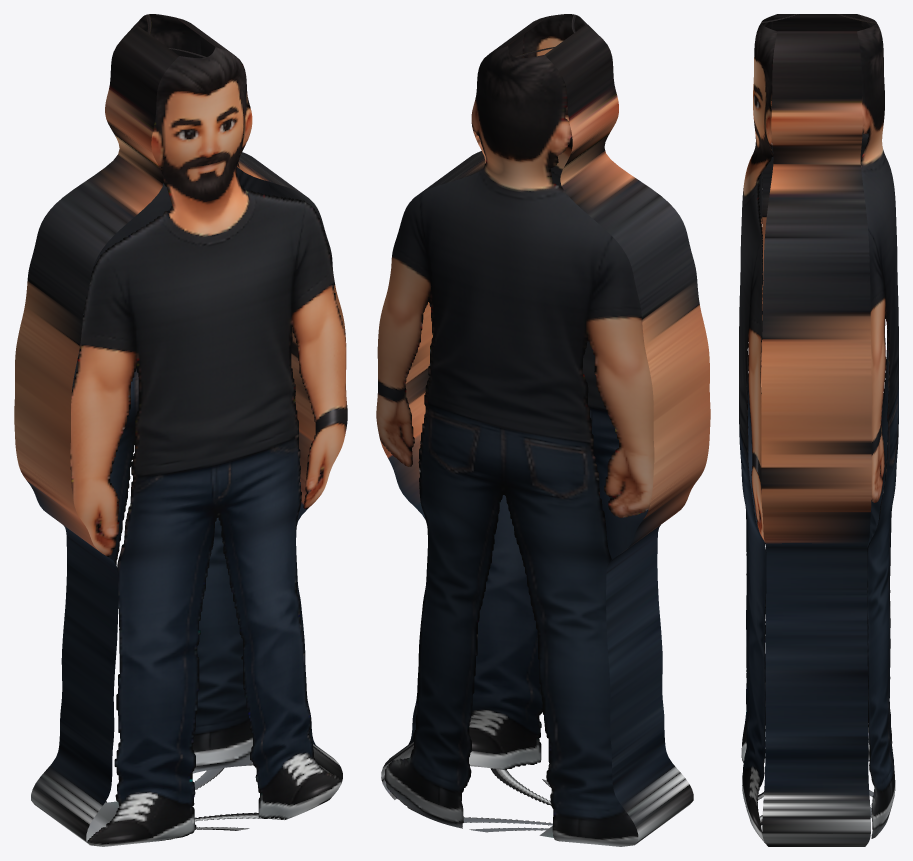
File: png 1 .glb
3 views of the same model, side by side, from view 1: azimuth 30°, elevation 25°; view 2: azimuth 150°, elevation 25°; view 3: azimuth 270°, elevation 25° (orthographic).
Parts seen in each view (by area): view 1: Personnage V4 Neural; view 2: Personnage V4 Neural; view 3: Personnage V4 Neural.
Boxes of the visible parts, x1,y1,x2,y2 form: Personnage V4 Neural: [14, 14, 347, 846]; Personnage V4 Neural: [376, 14, 710, 846]; Personnage V4 Neural: [739, 14, 898, 846].
Bounding box in the file's own units: 0.7479 × 2 × 0.3798.
1 material, 1 textured.
